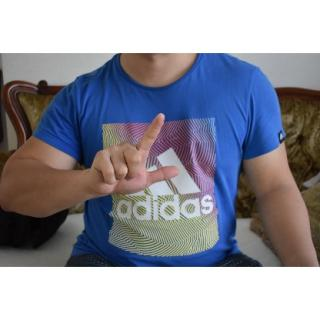LAAM: (82, 108, 182, 202)
